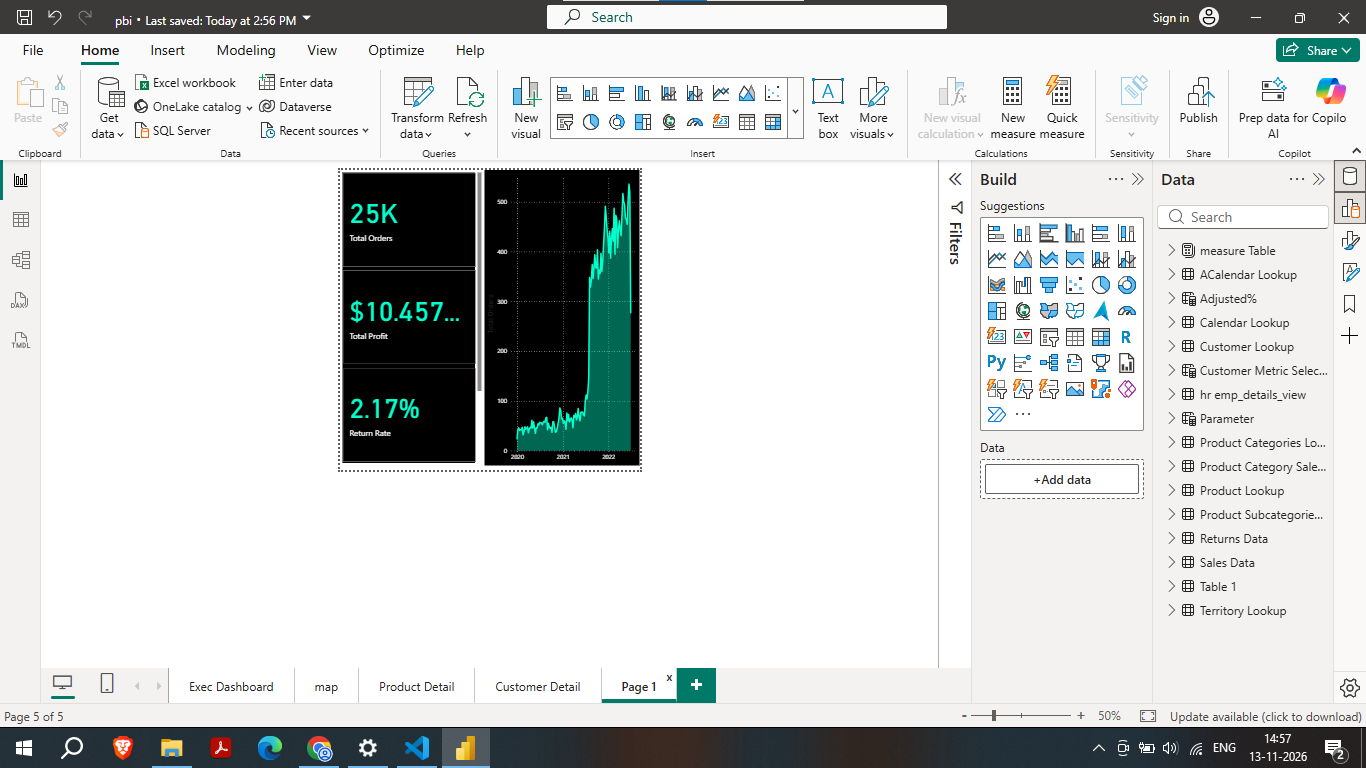

Layout of this report page (visuals, bound fields, positions):
{"tool":"powerbi","page":{"name":"Page 1","canvas":[600,600],"ordinal":4},"visuals":[{"type":"lineChart","fields":{"Category":["Calendar Lookup.Start of Week"],"Y":["measure Table.Total Orders"]},"box":[288.6,0,311.4,591.4],"z":0},{"type":"cardVisual","fields":{"Data":["measure Table.Total Orders","measure Table.Total Profit","measure Table.Return Rate","measure Table.total revenue"]},"box":[0,0,288.6,591.4],"z":1000}]}

Visuals, with their boxes on the page's 600x600 design canvas (x1, y1, x2, y2). These are canvas units, not pixel positions in the 1366x768 screenshot, which may show the page scaled, cropped or inside an application window:
lineChart - Calendar Lookup.Start of Week x measure Table.Total Orders: 289, 0, 600, 591
cardVisual - measure Table.Total Orders x measure Table.Total Profit: 0, 0, 289, 591
